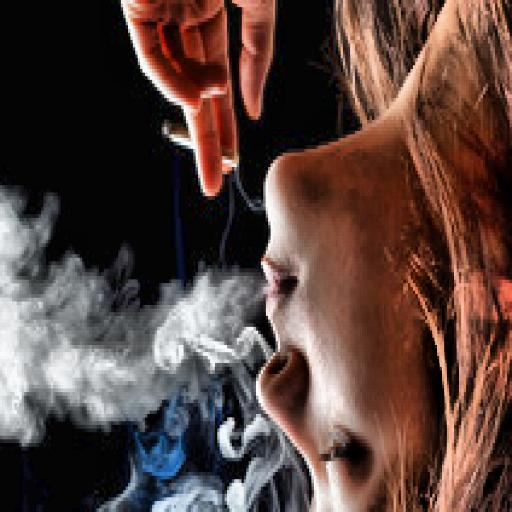Merokok: (164, 123, 193, 149), (222, 153, 237, 167)
Rokok: (0, 183, 300, 512), (0, 185, 266, 447), (120, 0, 274, 192)
